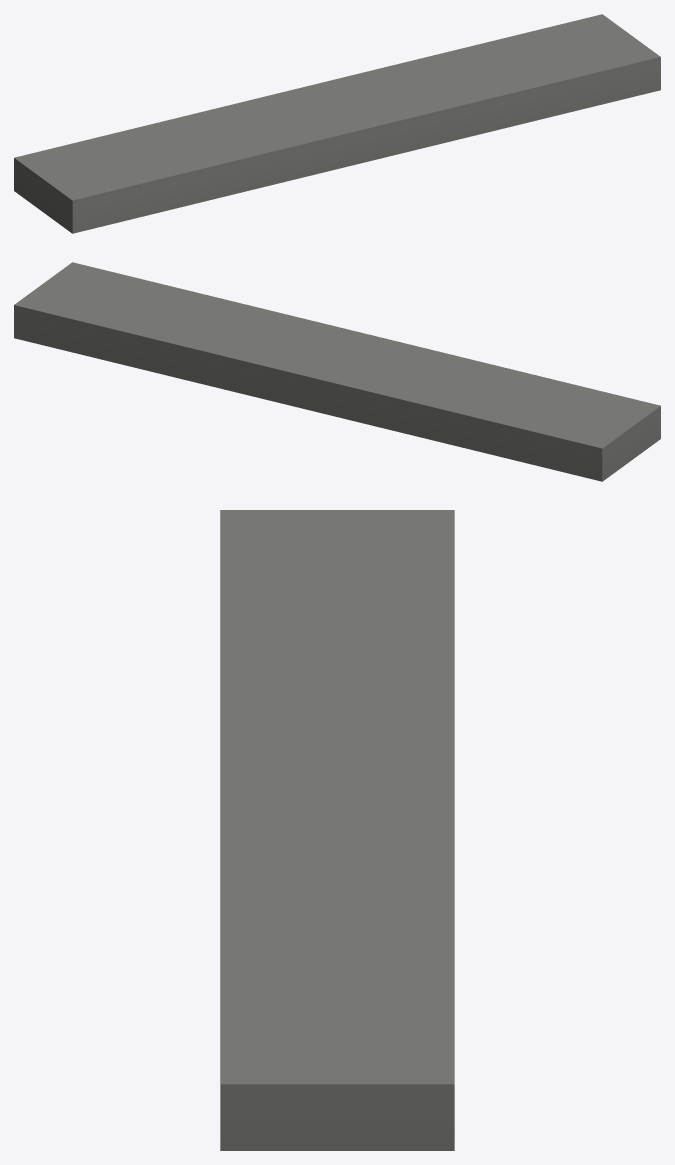
Rendered from HRLedgeCenter.fbx.
3 renders of one model, top to bottom at view 1: azimuth 30°, elevation 25°; view 2: azimuth 150°, elevation 25°; view 3: azimuth 270°, elevation 25°, orthographic. The views are drawn at different scales.
Visible parts, largest first — view 1: CenterLedge; view 2: CenterLedge; view 3: CenterLedge.
Part boxes in pixels (bbox=[...]): CenterLedge: bbox=[14, 14, 660, 233]; CenterLedge: bbox=[14, 262, 660, 481]; CenterLedge: bbox=[220, 510, 454, 1150].
Bounding box in the file's own units: 37.29 × 2.01 × 6.42.
